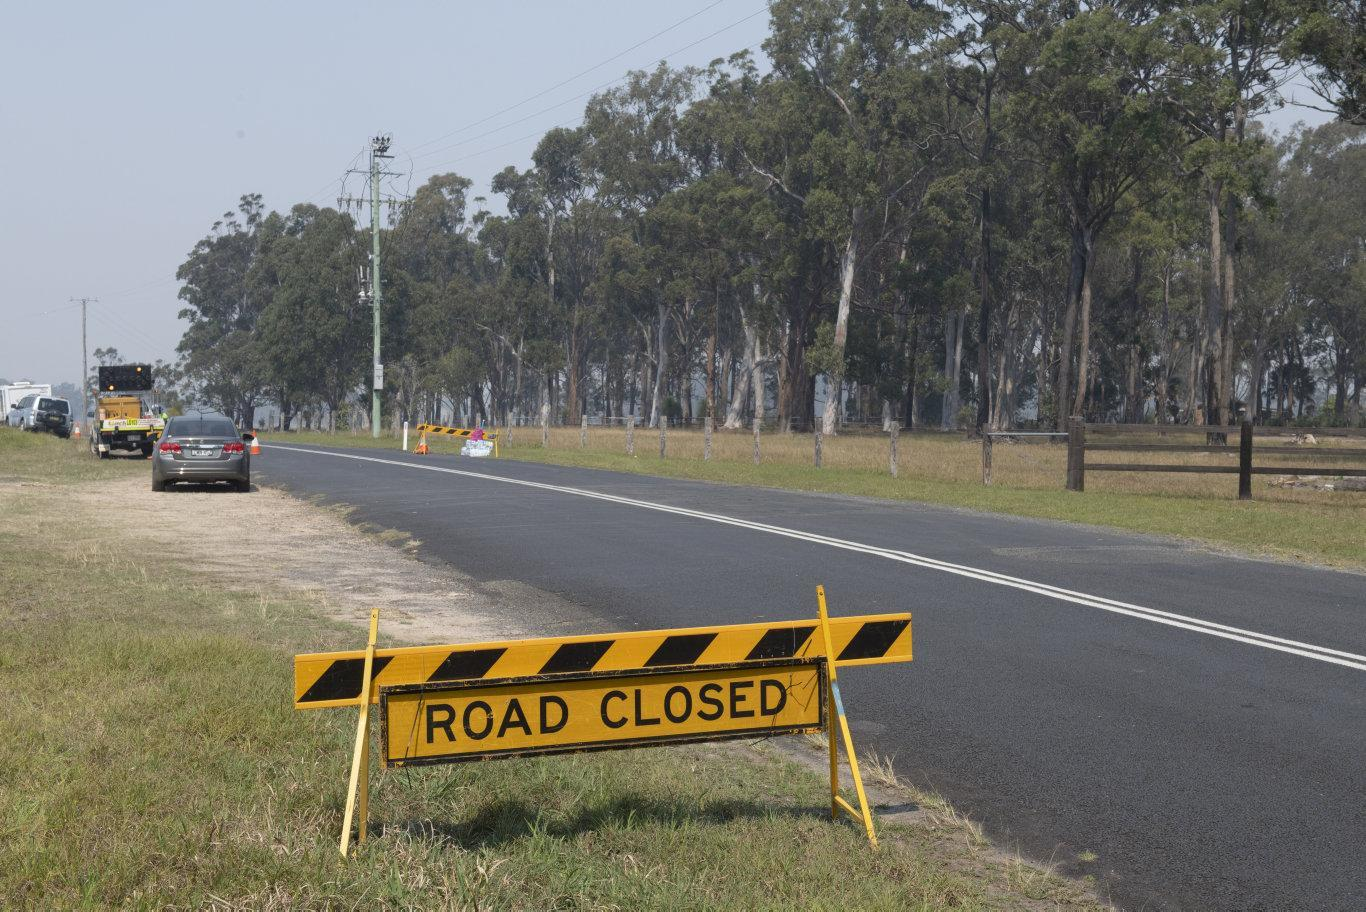car: (145, 408, 258, 488), (2, 375, 78, 444), (92, 396, 164, 462)
palisade: (292, 607, 924, 850)
